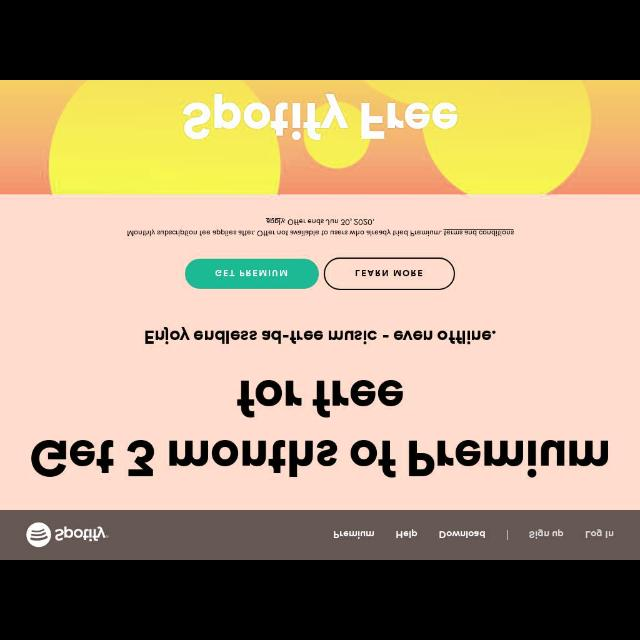image: (26, 522, 108, 548)
multitab: (311, 510, 639, 560)
text: (32, 377, 610, 479), (180, 91, 460, 140), (126, 217, 512, 237), (142, 326, 498, 346), (333, 528, 375, 540), (439, 529, 487, 539), (584, 526, 614, 540), (530, 528, 564, 538), (396, 528, 418, 538)
textbutton: (184, 259, 320, 289), (325, 258, 455, 288)
